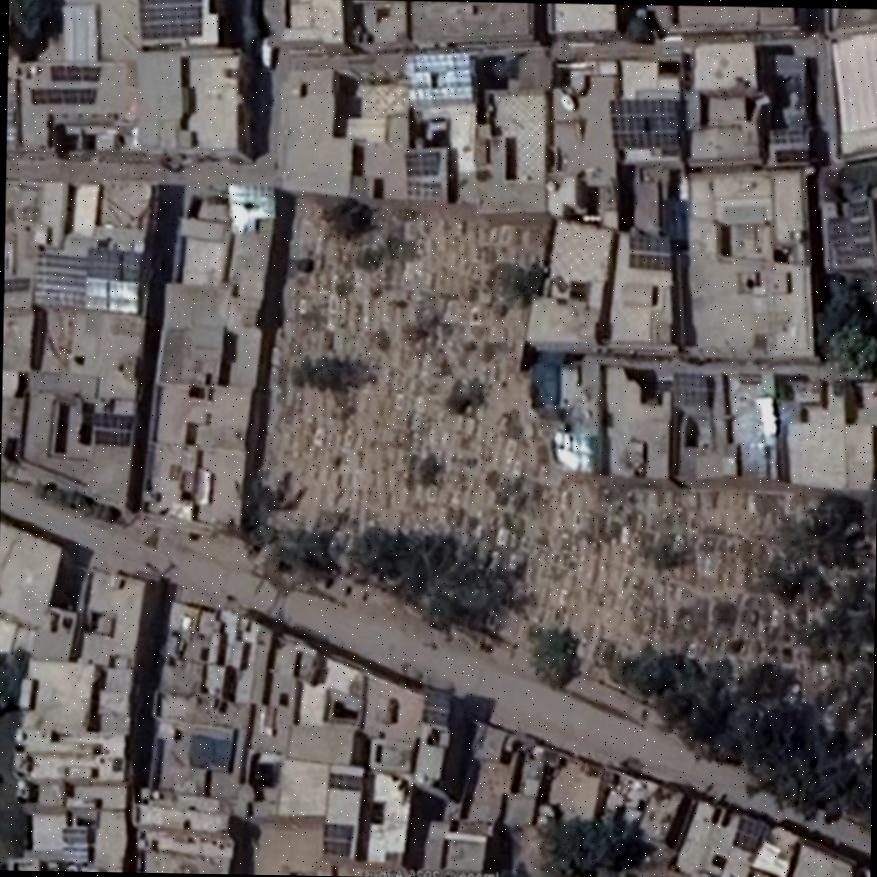Solarpanel: (84, 247, 139, 312), (610, 100, 676, 148), (404, 50, 471, 97), (29, 253, 88, 305), (137, 0, 200, 37), (227, 184, 275, 214), (92, 411, 134, 445), (628, 235, 670, 267), (30, 86, 95, 102), (672, 373, 706, 403), (404, 150, 438, 171), (51, 63, 98, 77), (770, 126, 803, 141), (850, 220, 869, 235), (847, 200, 867, 214), (854, 242, 870, 258)
